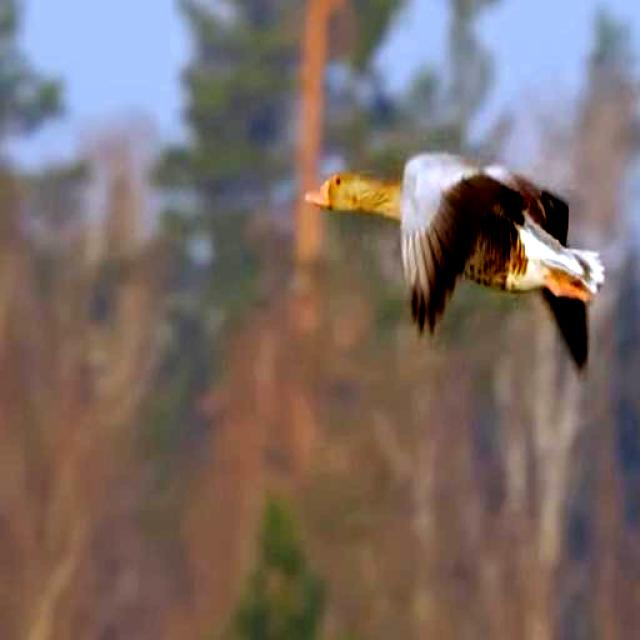airplane: (298, 140, 609, 360)
